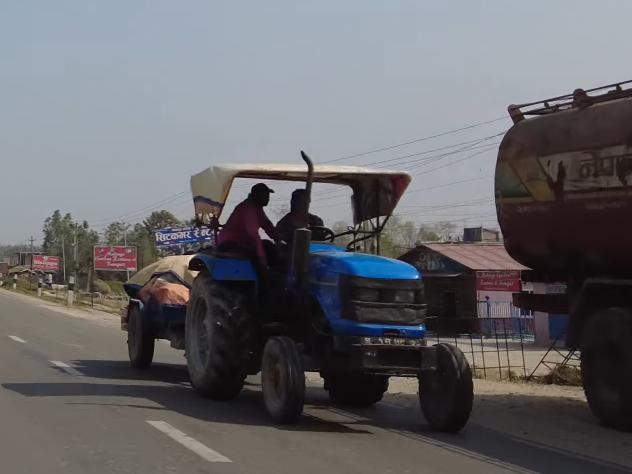tractor: (115, 147, 488, 449)
